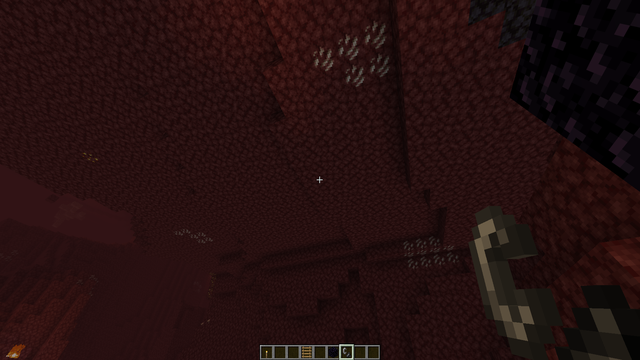nethergold: (78, 145, 100, 163)
quartz: (306, 17, 402, 89), (400, 237, 463, 274), (170, 226, 216, 248)
